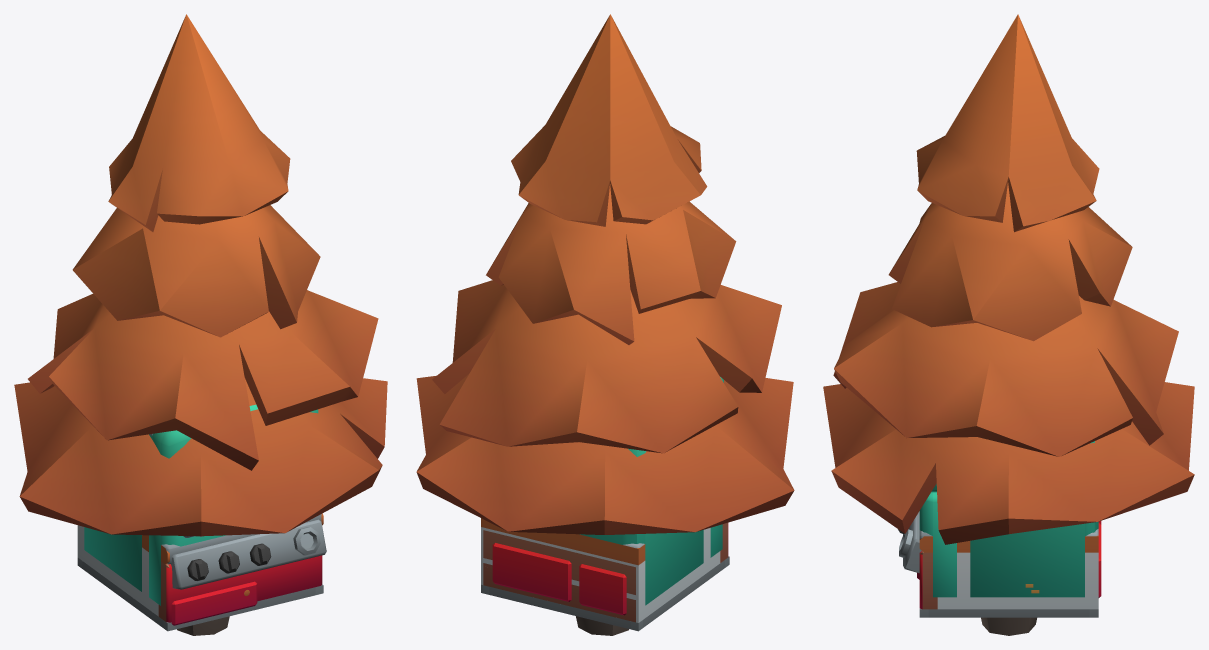
Rendered from kaykit.glb.
3 renders of one model, left to right at view 1: azimuth 30°, elevation 25°; view 2: azimuth 150°, elevation 25°; view 3: azimuth 270°, elevation 25°, orthographic.
Parts seen in each view (by area): view 1: hall__tree_pine_orange_large, rest__stove_multi, rest__fridge_A, rest__kitchencounter_sink, city__building_C; view 2: hall__tree_pine_orange_large, rest__stove_multi, rest__kitchencounter_sink, rest__fridge_A, rest__crate_carrots, city__building_C, rest__crate_lettuce; view 3: hall__tree_pine_orange_large, rest__fridge_A, rest__kitchencounter_sink, city__building_C, rest__stove_multi, rest__crate_carrots.
Part boxes in pixels (x1=…): hall__tree_pine_orange_large: x1=14, y1=14, x2=387, y2=635; rest__stove_multi: x1=161, y1=514, x2=326, y2=625; rest__fridge_A: x1=84, y1=404, x2=318, y2=605; rest__kitchencounter_sink: x1=77, y1=513, x2=323, y2=616; city__building_C: x1=77, y1=558, x2=323, y2=631; hall__tree_pine_orange_large: x1=416, y1=14, x2=794, y2=635; rest__stove_multi: x1=492, y1=523, x2=728, y2=615; rest__kitchencounter_sink: x1=481, y1=518, x2=720, y2=622; rest__fridge_A: x1=579, y1=377, x2=723, y2=605; rest__crate_carrots: x1=483, y1=523, x2=727, y2=609; city__building_C: x1=481, y1=556, x2=729, y2=631; rest__crate_lettuce: x1=483, y1=522, x2=727, y2=622; hall__tree_pine_orange_large: x1=823, y1=14, x2=1194, y2=635; rest__fridge_A: x1=919, y1=441, x2=1098, y2=597; rest__kitchencounter_sink: x1=919, y1=535, x2=1098, y2=609; city__building_C: x1=919, y1=609, x2=1098, y2=617; rest__stove_multi: x1=898, y1=511, x2=1101, y2=609; rest__crate_carrots: x1=920, y1=551, x2=937, y2=606.
Bounding box in the file's own units: 4.76 × 7.48 × 4.16.
1 material, 1 textured.
